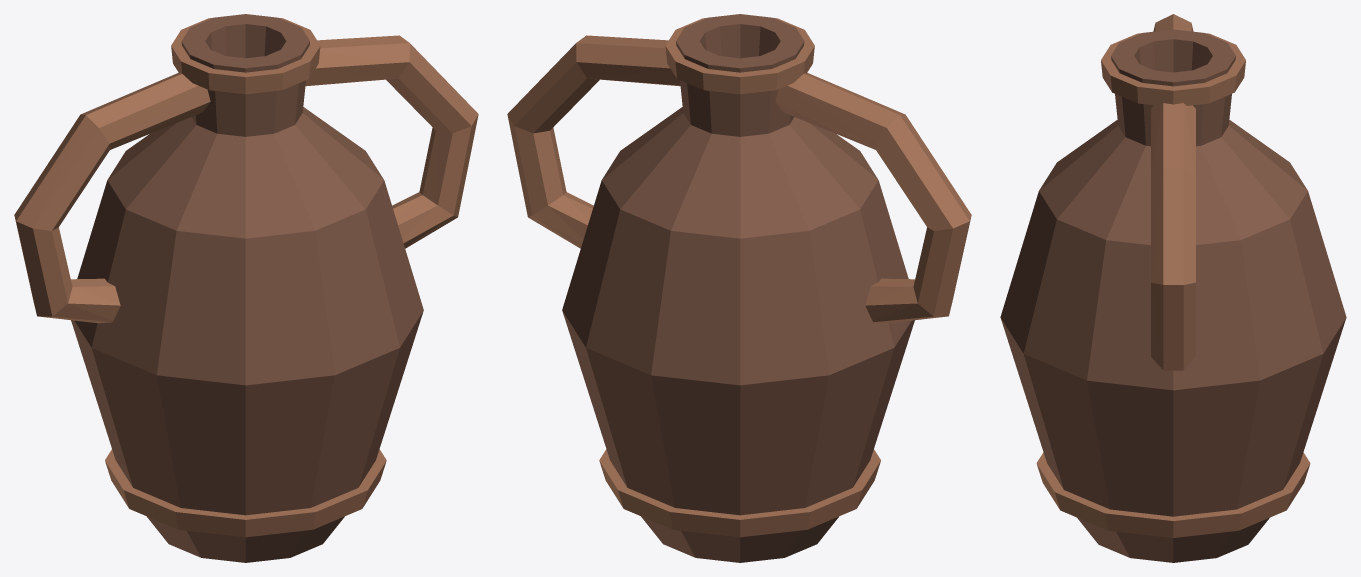
The model's file is DG_Amphora_TwinHandle.fbx.
3 views of the same model, side by side, from view 1: azimuth 30°, elevation 25°; view 2: azimuth 150°, elevation 25°; view 3: azimuth 270°, elevation 25° (orthographic). The views are drawn at different scales.
Parts seen in each view (by area): view 1: DG_Amphora_TwinHandle; view 2: DG_Amphora_TwinHandle; view 3: DG_Amphora_TwinHandle.
Boxes of the visible parts, x1,y1,x2,y2 form: DG_Amphora_TwinHandle: (14, 14, 478, 562); DG_Amphora_TwinHandle: (507, 14, 971, 562); DG_Amphora_TwinHandle: (1000, 14, 1346, 562).
Size of the model in its own units: 1.07 by 1.08 by 0.72.
